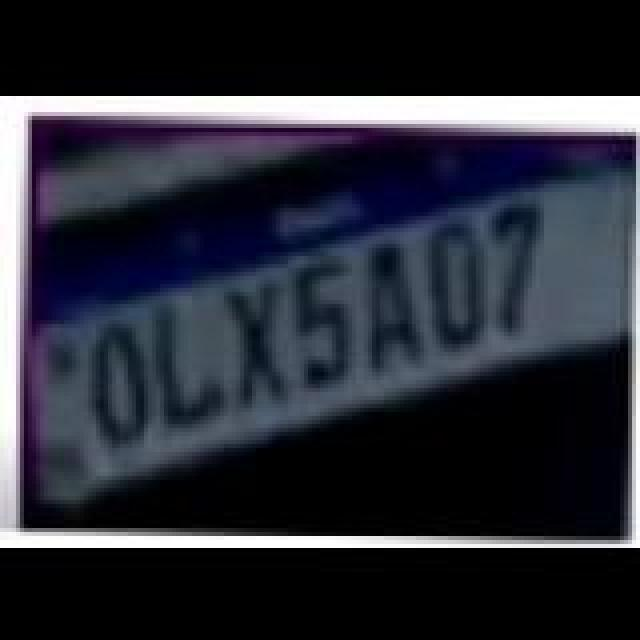5: (290, 256, 358, 384)
7: (488, 200, 552, 336)
A: (362, 238, 430, 370)
D: (422, 220, 490, 348)
L: (154, 306, 230, 430)
O: (90, 320, 158, 448)
X: (220, 278, 292, 410)
